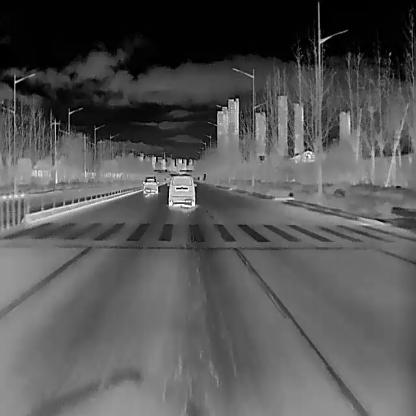car: (167, 174, 196, 208), (142, 175, 158, 193)
